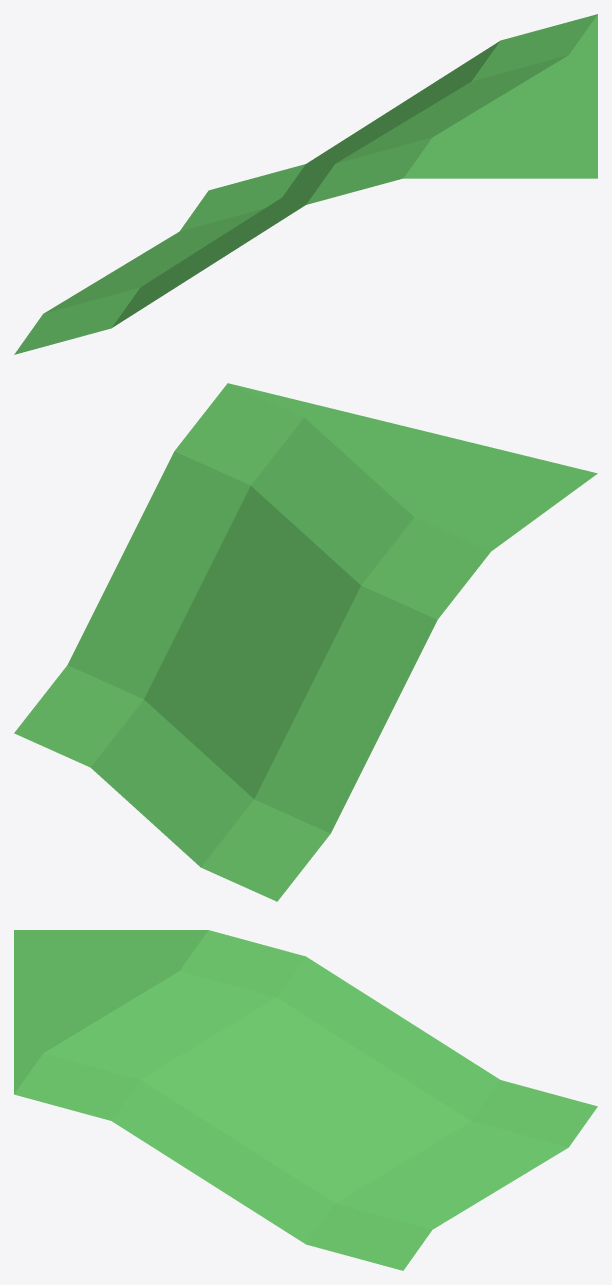
Rendered from Hilly_Terrain_Hill_Side_Shift_Sharp.glb.
3 renders of one model, top to bottom at view 1: azimuth 90°, elevation 25°; view 2: azimuth 150°, elevation 25°; view 3: azimuth 270°, elevation 25°, orthographic. The views are drawn at different scales.
Parts seen in each view (by area): view 1: Hilly_Terrain_Hill_Side_Shift_Sharp; view 2: Hilly_Terrain_Hill_Side_Shift_Sharp; view 3: Hilly_Terrain_Hill_Side_Shift_Sharp.
Part boxes in pixels (bbox=[...]): Hilly_Terrain_Hill_Side_Shift_Sharp: bbox=[14, 14, 597, 354]; Hilly_Terrain_Hill_Side_Shift_Sharp: bbox=[14, 383, 597, 901]; Hilly_Terrain_Hill_Side_Shift_Sharp: bbox=[14, 930, 597, 1270].
Size of the model in its own units: 1.06 by 0.53 by 1.59.
